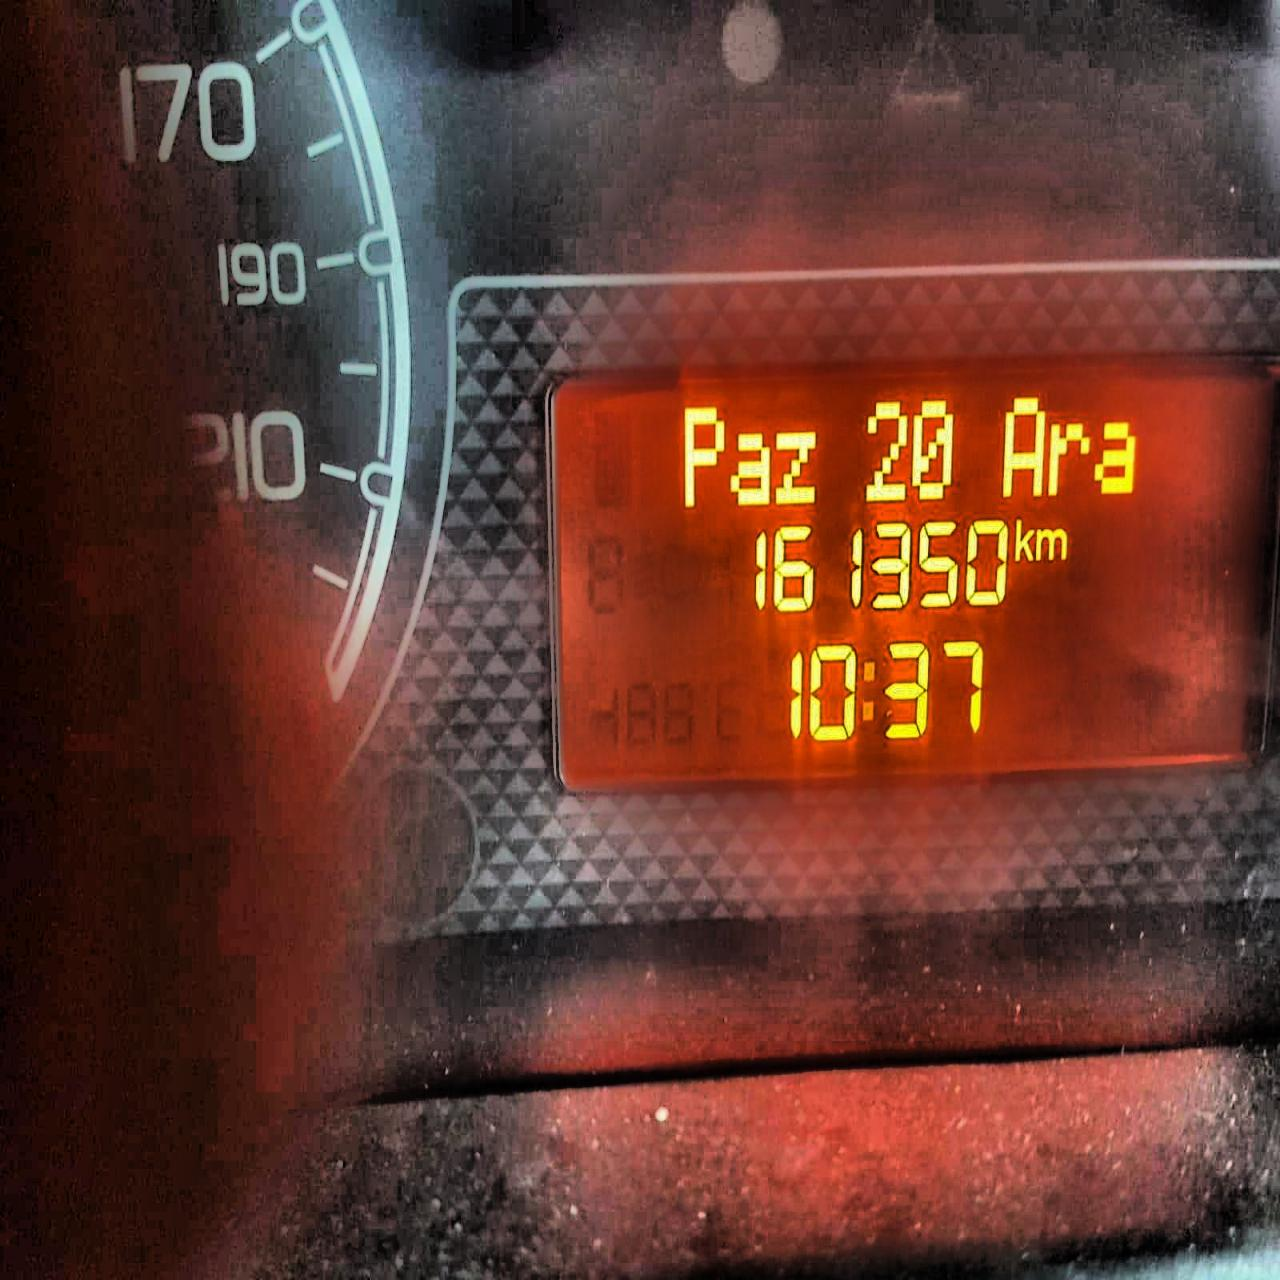1: (842, 520, 869, 614), (785, 639, 804, 742), (751, 524, 767, 615)
2: (862, 395, 910, 508)
3: (880, 629, 927, 743), (872, 517, 910, 613)
5: (915, 516, 960, 611)
6: (771, 517, 817, 619)
7: (910, 390, 956, 504), (939, 631, 987, 738), (806, 639, 855, 743), (964, 516, 1007, 607)
X: (679, 401, 723, 512), (1001, 390, 1047, 498), (728, 424, 772, 515), (1046, 413, 1088, 498), (774, 424, 817, 506), (1097, 414, 1136, 497), (1034, 522, 1069, 568), (1010, 510, 1033, 568), (862, 652, 877, 733)
odometer: (549, 373, 1272, 799)
